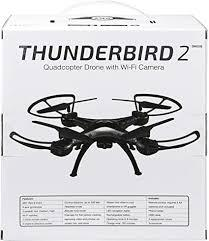drone: (7, 85, 204, 181)
